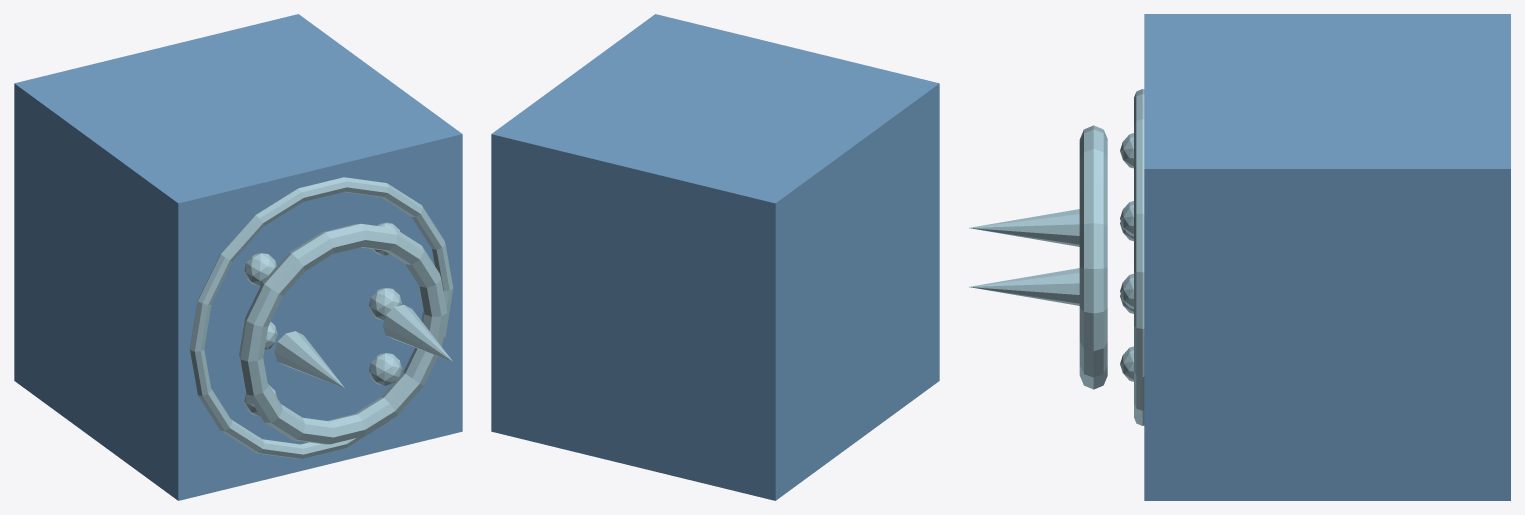
Rendered from sturm.glb.
3 renders of one model, left to right at view 1: azimuth 30°, elevation 25°; view 2: azimuth 150°, elevation 25°; view 3: azimuth 270°, elevation 25°, orthographic. The views are drawn at different scales.
Parts seen in each view (by area): view 1: world; view 2: world; view 3: world.
Boxes of the visible parts, x1,y1,x2,y2 form: world: (14, 14, 462, 500); world: (491, 14, 939, 500); world: (969, 14, 1510, 500).
Bounding box in the file's own units: 1.05 × 1.05 × 1.55.
